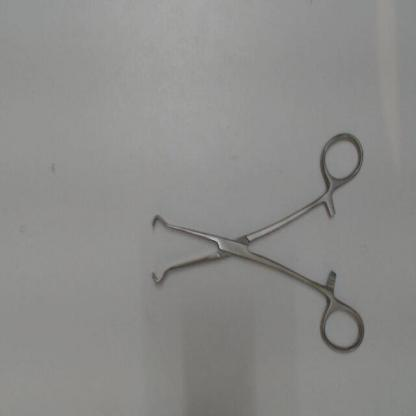Babcock Tissue Forceps: (144, 127, 371, 365)
